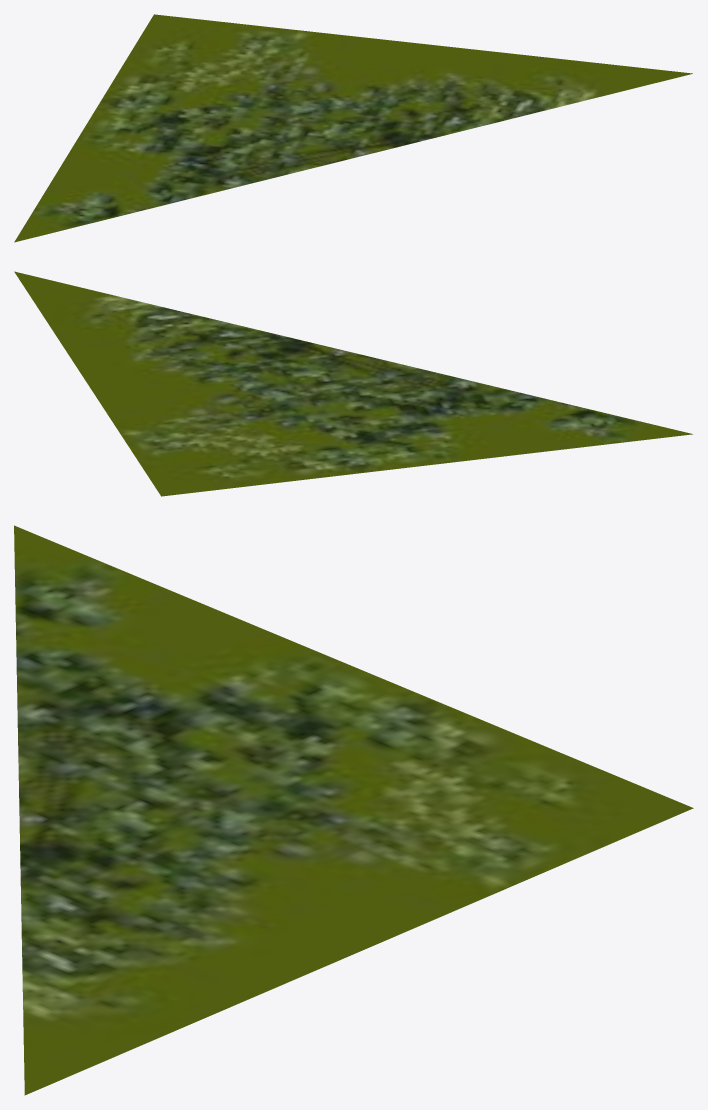
File: prop_ivyedgehorizontal01.glb
The picture shows the model from 3 angles, top to bottom: view 1: azimuth 30°, elevation 25°; view 2: azimuth 150°, elevation 25°; view 3: azimuth 270°, elevation 25°; orthographic projection. The views are drawn at different scales.
Size of the model in its own units: 150 by 0 by 75.36.
1 material, 1 textured.
